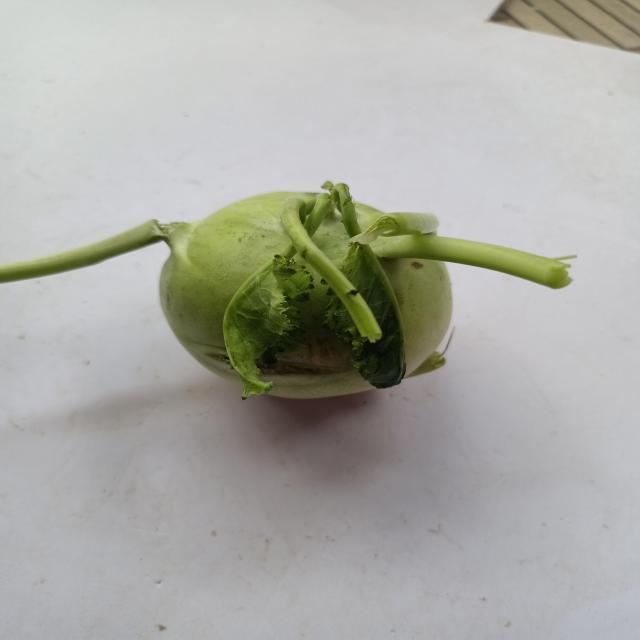Turnip: (20, 162, 608, 464)
